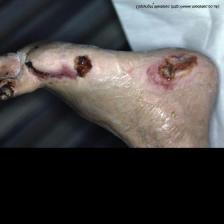Wound: (145, 50, 205, 83), (18, 55, 63, 82), (68, 47, 99, 81), (0, 78, 25, 98)
